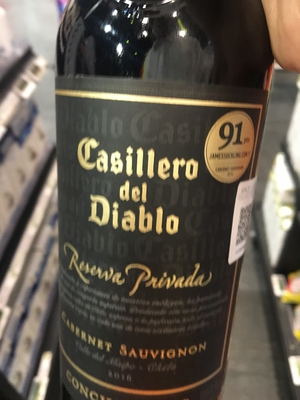casillero del diablo reserva privada cabernet sauvignon: (41, 2, 274, 395)
